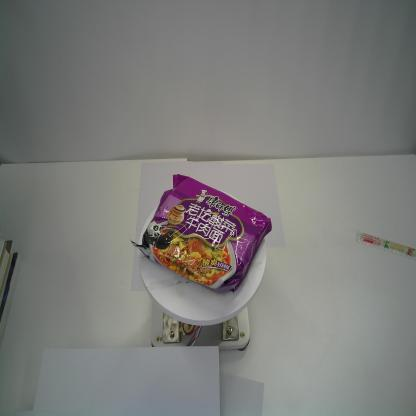Instant Noodles: (129, 174, 272, 296)
